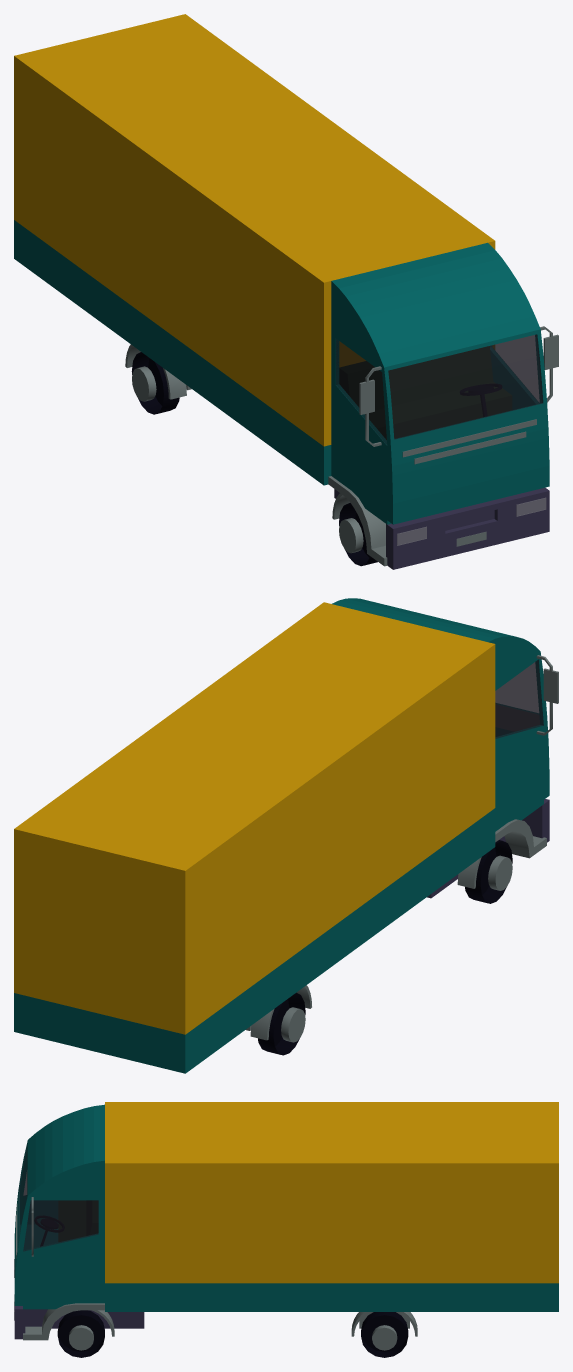
File: truck3.fbx
3 views of the same model, one above another, from view 1: azimuth 30°, elevation 25°; view 2: azimuth 150°, elevation 25°; view 3: azimuth 270°, elevation 25° (orthographic). The views are drawn at different scales.
Visible parts, largest first — view 1: Polygon_5, Polygon_4, Polygon_6, Polygon_7, Polygon_3, Polygon_2, Polygon, Polygon_8; view 2: Polygon_5, Polygon_4, Polygon_2, Polygon_6, Polygon, Polygon_3; view 3: Polygon_5, Polygon_4, Polygon_6, Polygon, Polygon_2, Polygon_7, Polygon_3.
Boxes of the visible parts, x1,y1,x2,y2 form: Polygon_5: (14, 14, 495, 446); Polygon_4: (14, 220, 549, 524); Polygon_6: (335, 334, 542, 445); Polygon_7: (339, 346, 511, 439); Polygon_3: (334, 487, 549, 569); Polygon_2: (125, 326, 558, 566); Polygon: (131, 352, 501, 566); Polygon_8: (397, 497, 546, 545); Polygon_5: (14, 602, 495, 1034); Polygon_4: (14, 598, 549, 1073); Polygon_2: (246, 655, 558, 1042); Polygon_6: (495, 659, 543, 738); Polygon: (258, 840, 512, 1055); Polygon_3: (427, 799, 549, 898); Polygon_5: (105, 1102, 558, 1283); Polygon_4: (14, 1104, 558, 1311); Polygon_6: (18, 1145, 98, 1251); Polygon: (34, 1215, 408, 1357); Polygon_2: (14, 1197, 417, 1350); Polygon_7: (58, 1200, 98, 1241); Polygon_3: (14, 1306, 144, 1339).
Bounding box in the file's own units: 266 × 350 × 864.
